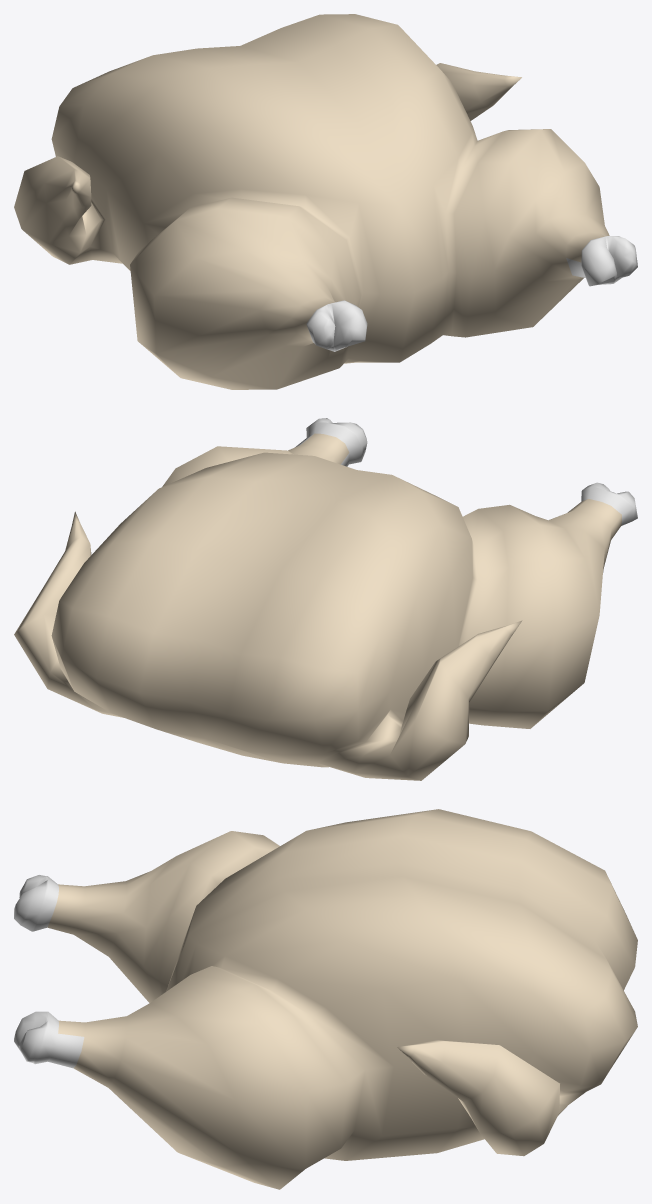
Rendered from frango.fbx.
The picture shows the model from 3 angles, top to bottom: view 1: azimuth 30°, elevation 25°; view 2: azimuth 150°, elevation 25°; view 3: azimuth 270°, elevation 25°; orthographic projection. The views are drawn at different scales.
Visible parts, largest first — view 1: chiken; view 2: chiken; view 3: chiken.
Part boxes in pixels (x1=…): chiken: x1=14, y1=14, x2=637, y2=389; chiken: x1=14, y1=418, x2=637, y2=780; chiken: x1=14, y1=809, x2=637, y2=1189.
Bounding box in the file's own units: 22.46 × 12.69 × 26.27.
